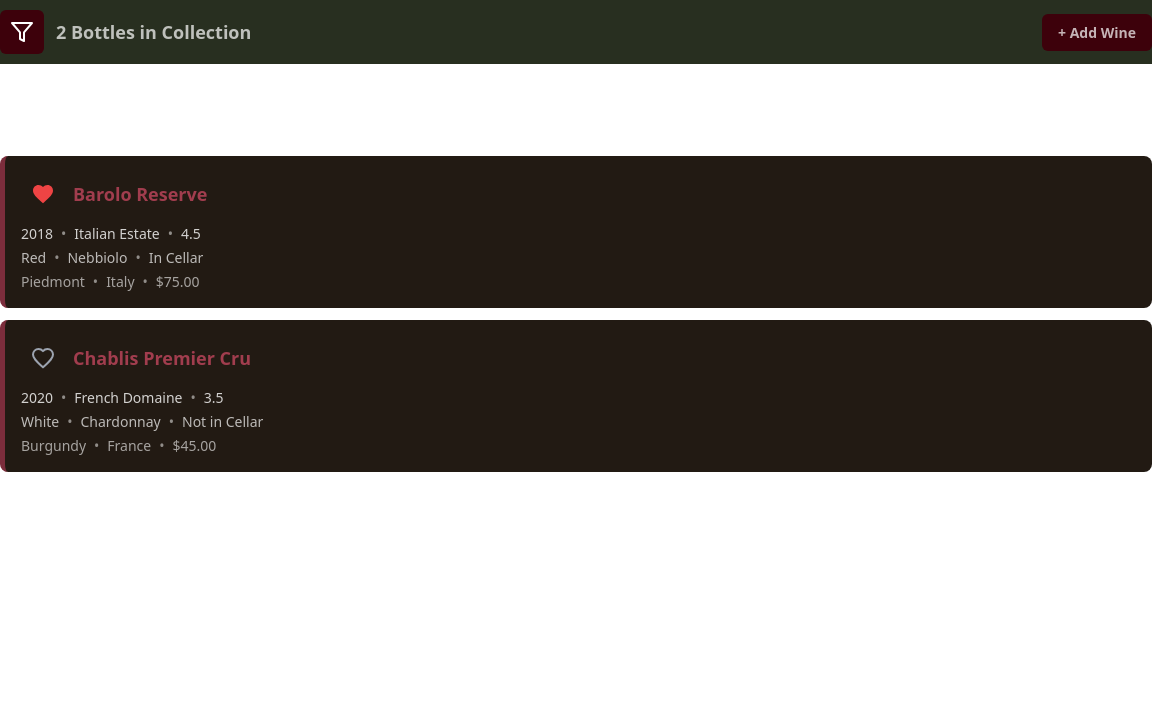
Test: Home Page - Mobile View › Mobile Filter Drawer Close › closes filter drawer when WineFilters close button is clicked
Expected: the text "Barolo Reserve" is shown, [73,180,207,208]
// Open filter drawer
Click the button named "filter": (22, 32) [0,10,44,54]
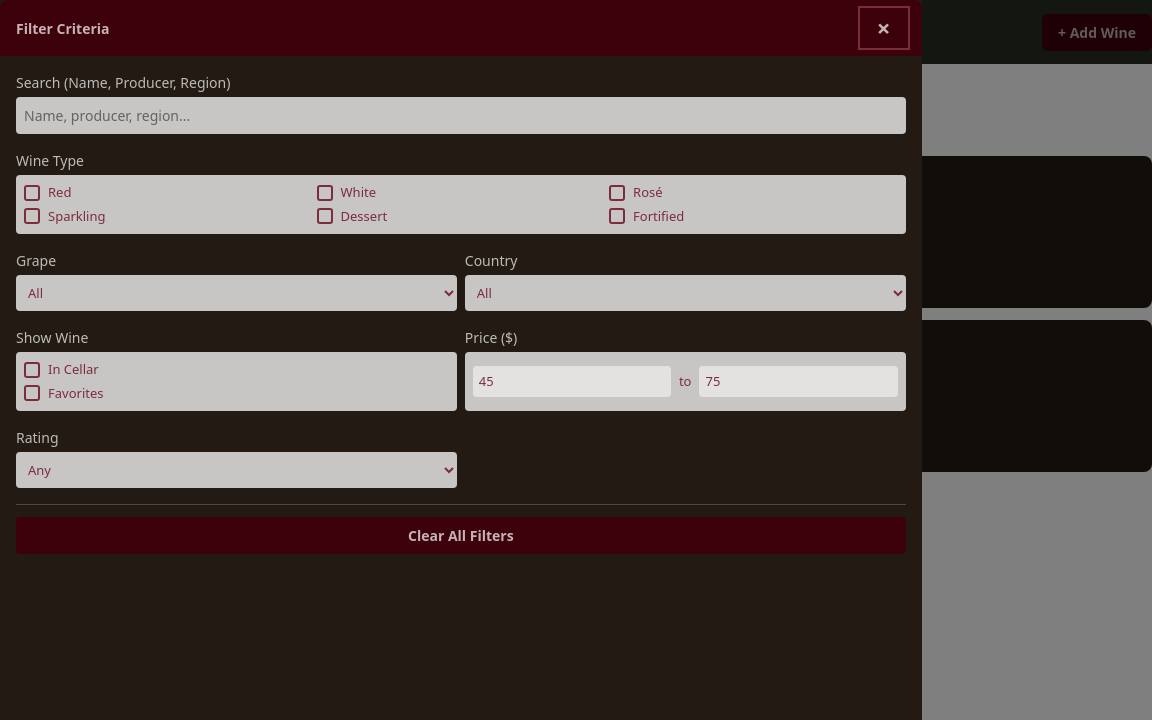
Result: the dialog is shown
// Click the close button inside WineFilters
Click the button named "close filters": (884, 28) [862,10,906,46]
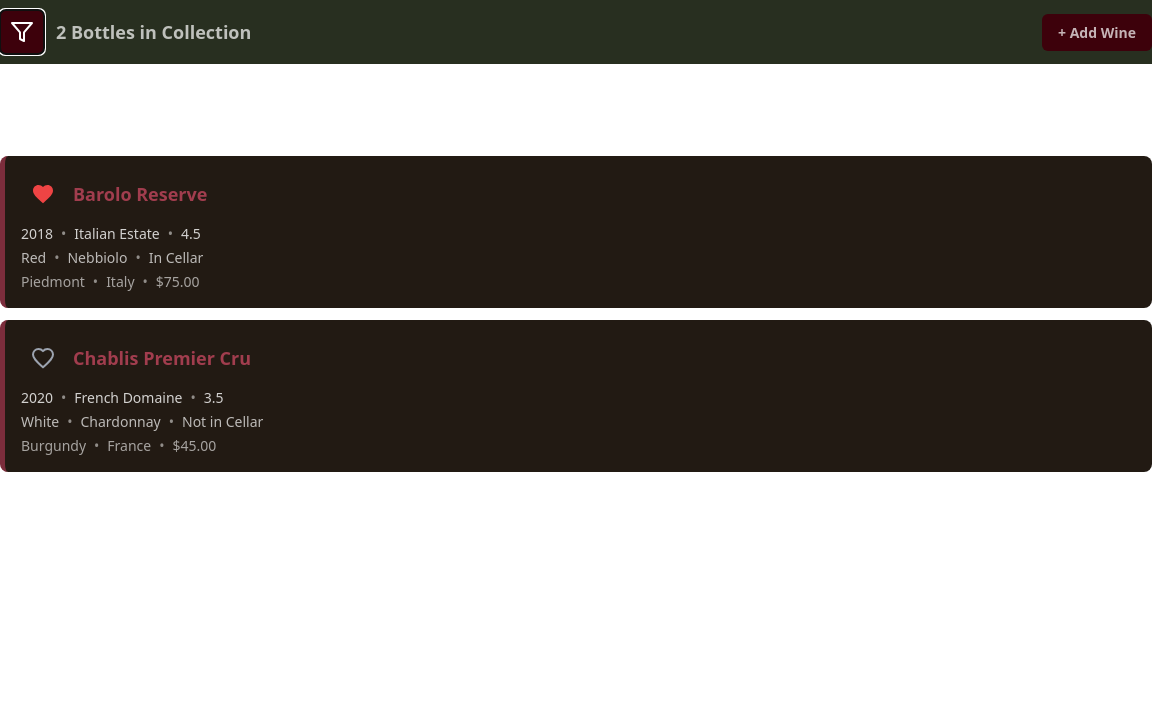
Result: the dialog is gone
